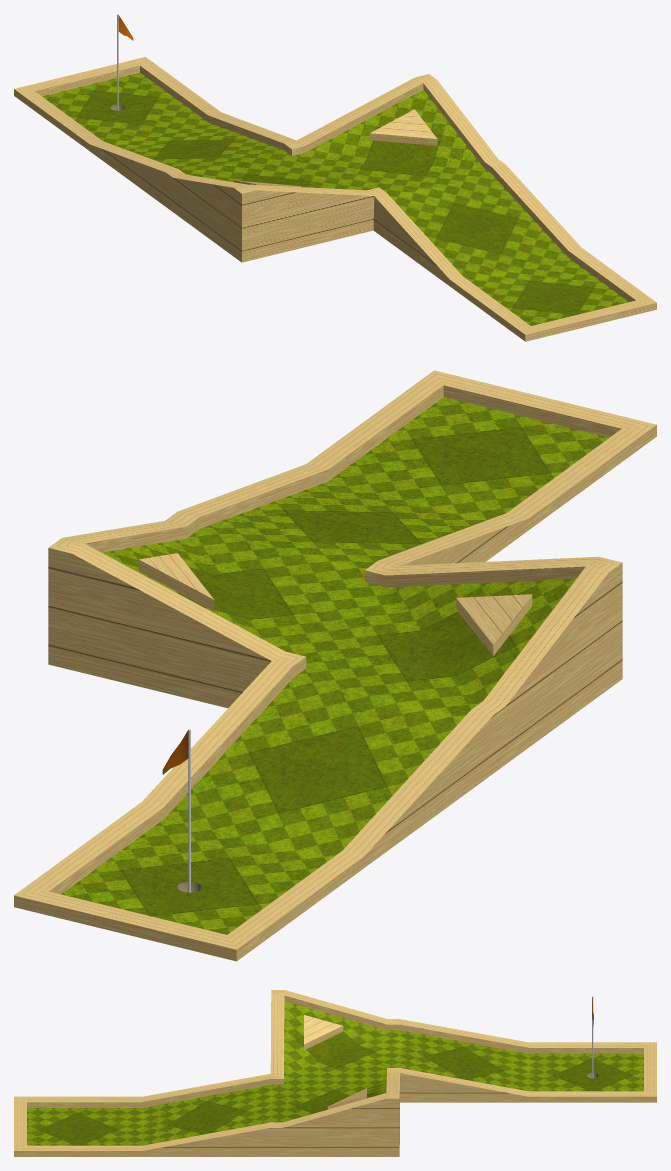
File: course1_hole9.fbx
The picture shows the model from 3 angles, top to bottom: view 1: azimuth 30°, elevation 25°; view 2: azimuth 150°, elevation 25°; view 3: azimuth 270°, elevation 25°; orthographic projection. The views are drawn at different scales.
Visible parts, largest first — view 1: course1_hole9_ground, course1_hole9_walls; view 2: course1_hole9_ground, course1_hole9_walls, course1_hole9_flag; view 3: course1_hole9_ground, course1_hole9_walls.
Boxes of the visible parts, x1,y1,x2,y2 form: course1_hole9_ground: (42,72,628,325); course1_hole9_walls: (14,57,656,341); course1_hole9_ground: (61,397,609,934); course1_hole9_walls: (14,370,656,961); course1_hole9_flag: (162,729,190,892); course1_hole9_ground: (27,1001,643,1145); course1_hole9_walls: (14,990,656,1156).
Size of the model in its own units: 6 by 2.25 by 15.
